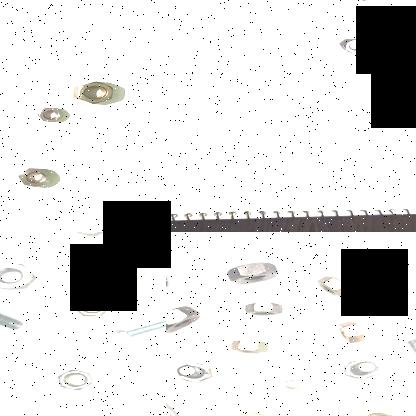Bolts: (84, 248, 150, 290), (109, 312, 166, 342), (0, 295, 26, 336), (339, 402, 415, 416), (340, 357, 380, 383), (176, 358, 212, 386), (202, 406, 295, 416), (404, 328, 416, 389), (274, 379, 312, 395)
NUTS: (46, 366, 102, 400), (224, 260, 282, 292), (69, 80, 125, 107), (0, 257, 41, 293), (311, 272, 357, 304), (241, 298, 286, 328), (64, 294, 112, 322), (220, 337, 274, 359), (166, 306, 204, 334), (332, 320, 370, 347), (14, 166, 50, 188), (338, 37, 373, 55), (67, 232, 111, 246), (34, 108, 66, 124)
